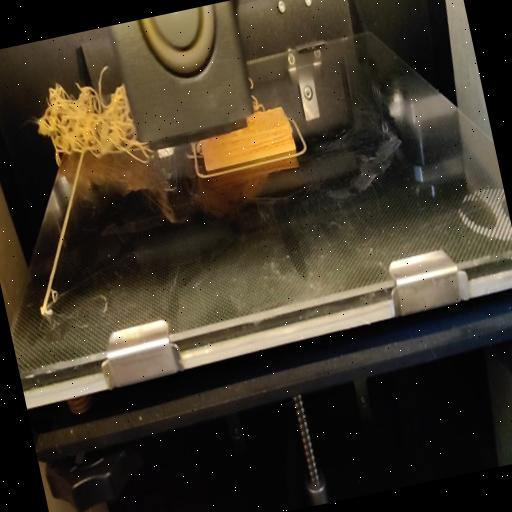spaghetti: (26, 62, 142, 182)
